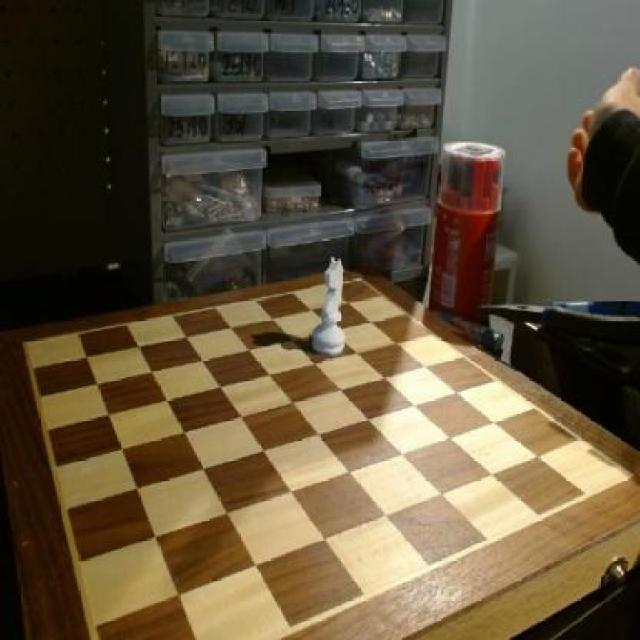white-king: (309, 255, 352, 362)
